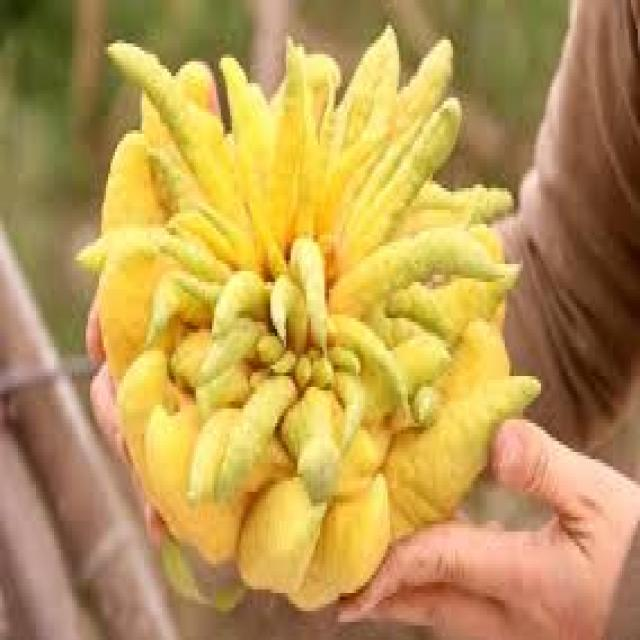PhatThu: (70, 5, 549, 612)
